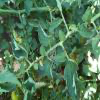Tomato leaf bacterial spot: (8, 34, 32, 66), (63, 59, 81, 98), (37, 25, 54, 47), (74, 24, 94, 39), (81, 5, 94, 26), (49, 15, 64, 33), (50, 51, 69, 65), (31, 62, 39, 72)
